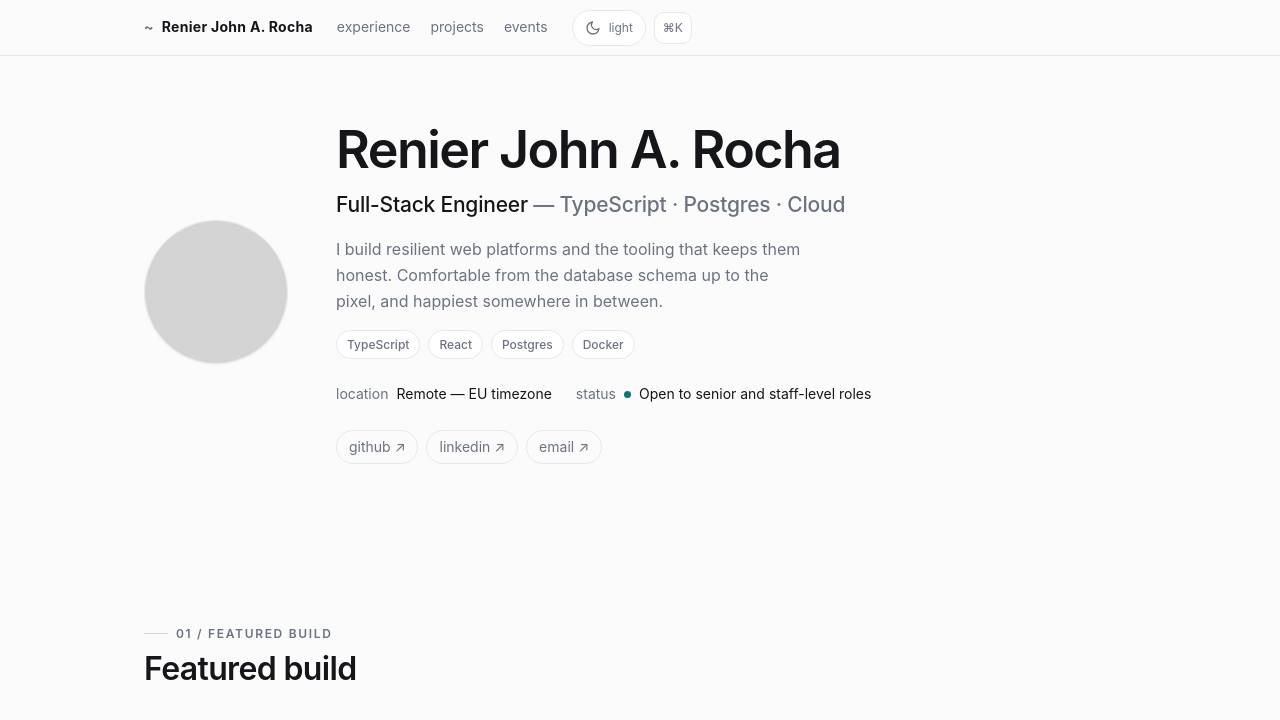
Test: defaults to the light theme and persists a switch to dark
The width and height of the screenshot is (1280, 720).
Click the button with aria-label "switch to dark mode" at (609, 28), box [572,10,646,46]
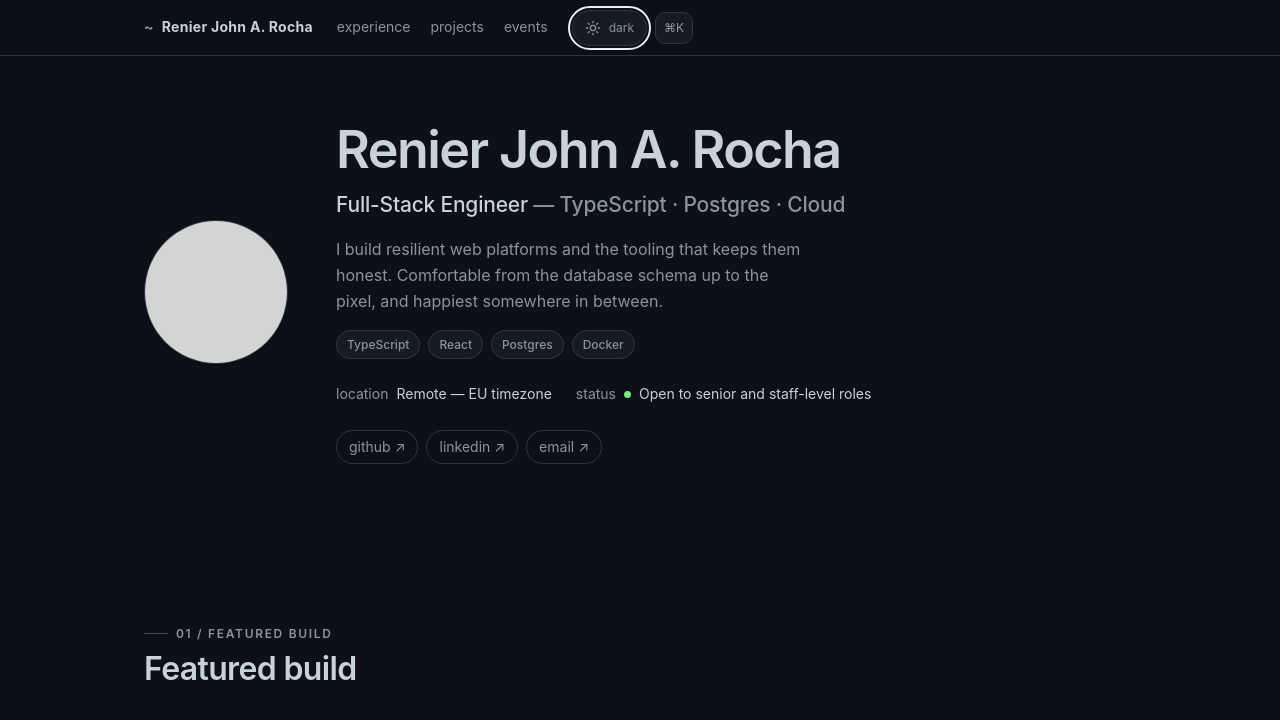
Expected: the text "dark" is shown, [609,18,634,37]
Expected: the button with aria-label "switch to light mode" is shown, [572,10,647,46]
